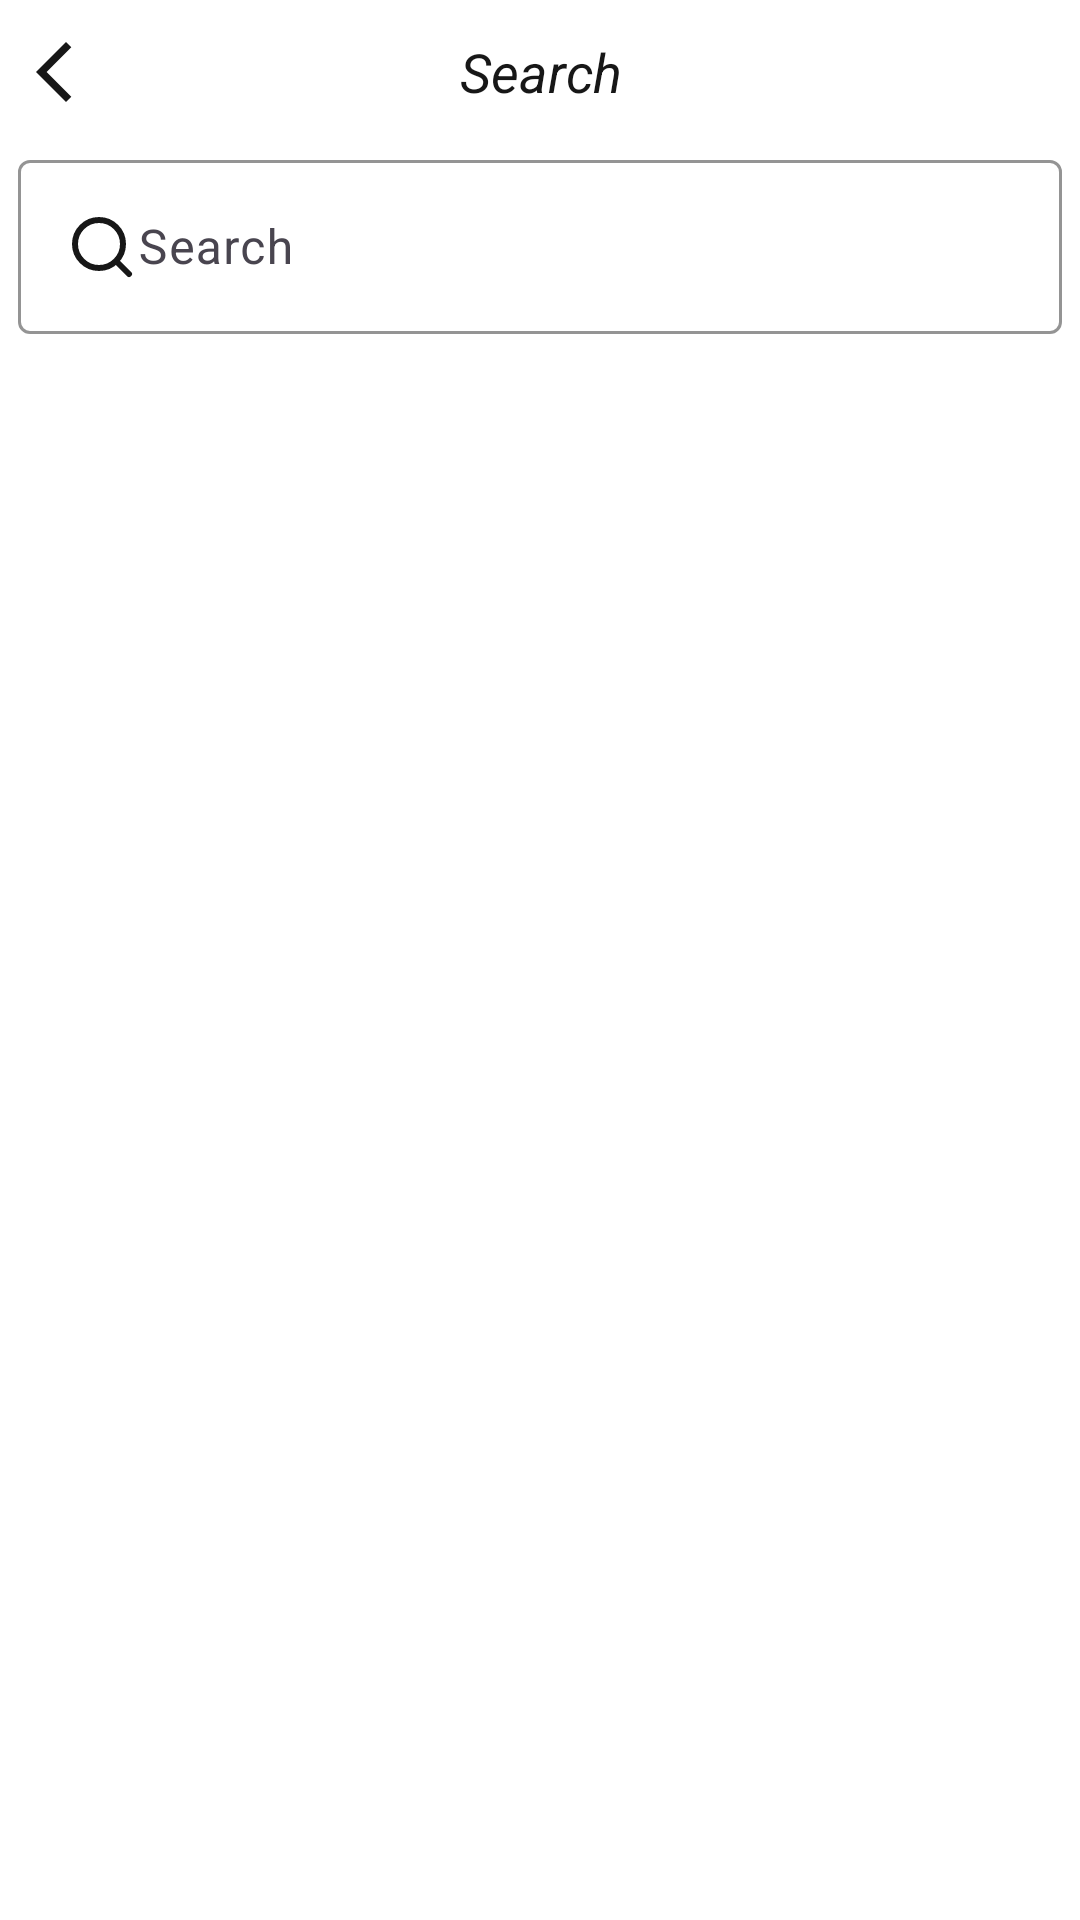

Screen size 1080 x 1920. Icon name, then its box in pixels as Rect(x1, y1, x2, y2):
back: Rect(36, 42, 71, 102)
